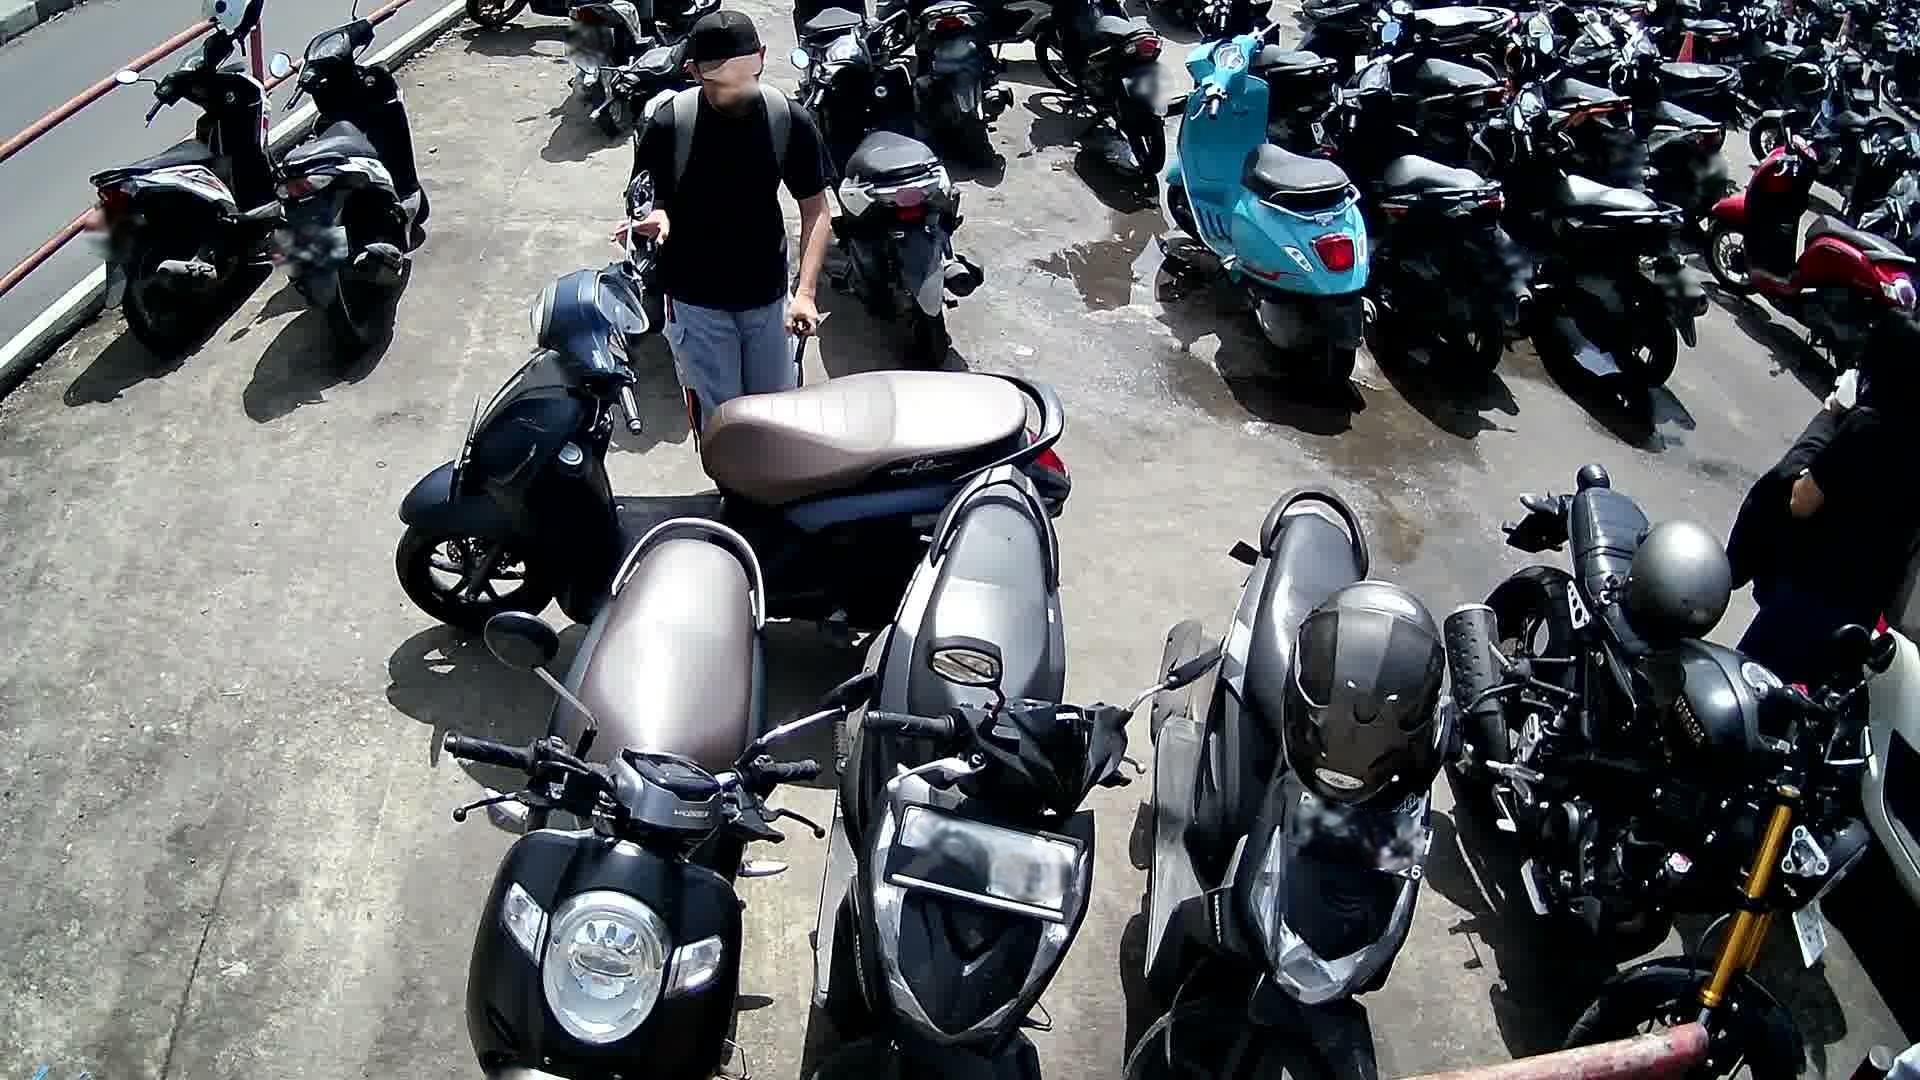motorcycle: (396, 174, 1072, 634), (1445, 463, 1920, 1080), (814, 464, 1218, 1080), (444, 520, 877, 1080), (1129, 485, 1460, 1080), (1462, 36, 1708, 392), (1168, 21, 1379, 400), (1319, 26, 1532, 384), (791, 11, 984, 348), (87, 24, 281, 352), (269, 5, 427, 349), (1708, 125, 1920, 357)
